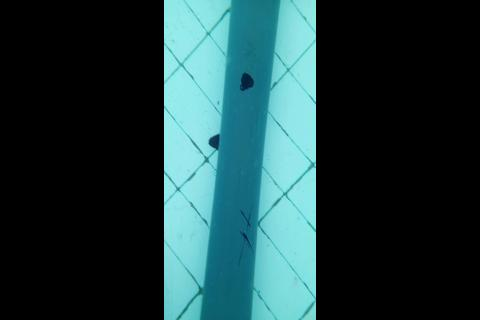kebocoran: (237, 70, 255, 92)
keretakan: (236, 204, 254, 266)
